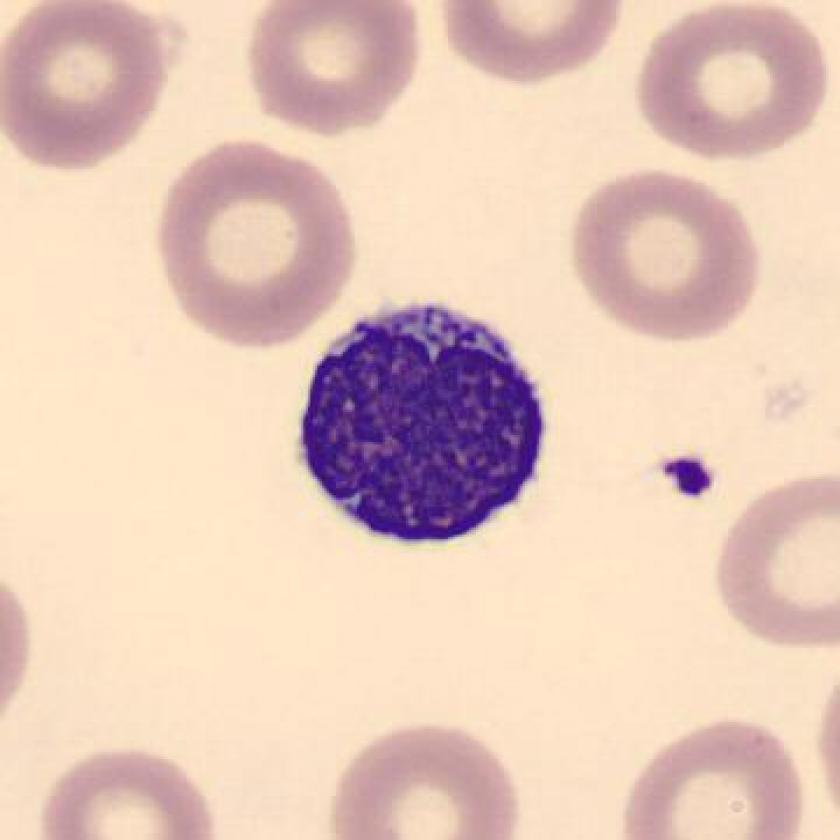lymphocyte: (279, 283, 559, 561)
